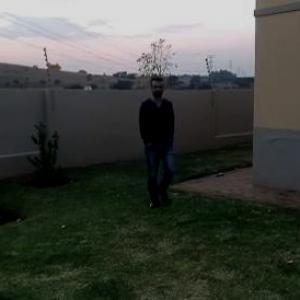follow: (138, 76, 181, 202)
